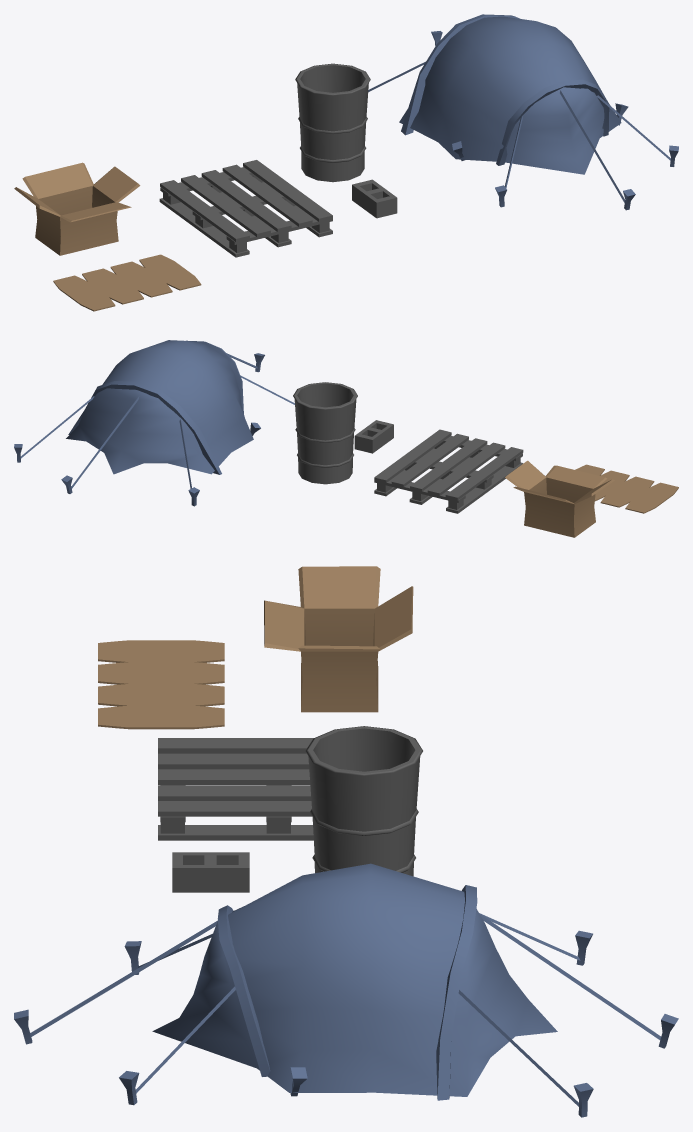
Rendered from HomelessStuff.fbx.
3 views of the same model, one above another, from view 1: azimuth 30°, elevation 25°; view 2: azimuth 150°, elevation 25°; view 3: azimuth 270°, elevation 25° (orthographic). The views are drawn at different scales.
Parts seen in each view (by area): view 1: Tent, Pallet, Barrel, CardboardBox, Unfolded_Cardboardbox, Cinderblock; view 2: Tent, Pallet, Barrel, CardboardBox, Unfolded_Cardboardbox, Cinderblock; view 3: Tent, Pallet, CardboardBox, Barrel, Unfolded_Cardboardbox, Cinderblock.
Boxes of the visible parts, x1,y1,x2,y2 form: Tent: [368, 14, 678, 210]; Pallet: [159, 160, 332, 257]; Barrel: [295, 63, 370, 182]; CardboardBox: [14, 162, 140, 255]; Unfolded_Cardboardbox: [53, 254, 201, 311]; Cinderblock: [352, 179, 397, 218]; Tent: [14, 340, 294, 506]; Pallet: [374, 429, 523, 513]; Barrel: [293, 382, 357, 484]; CardboardBox: [505, 460, 614, 537]; Unfolded_Cardboardbox: [575, 464, 678, 513]; Cinderblock: [354, 420, 393, 453]; Tent: [14, 863, 678, 1117]; Pallet: [158, 738, 313, 840]; CardboardBox: [264, 566, 413, 712]; Barrel: [305, 726, 422, 876]; Unfolded_Cardboardbox: [98, 640, 224, 729]; Cinderblock: [172, 852, 249, 892].
Bounding box in the file's own units: 17.25 × 2.86 × 10.28.
